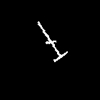double_crochet: (38, 22, 66, 61)
